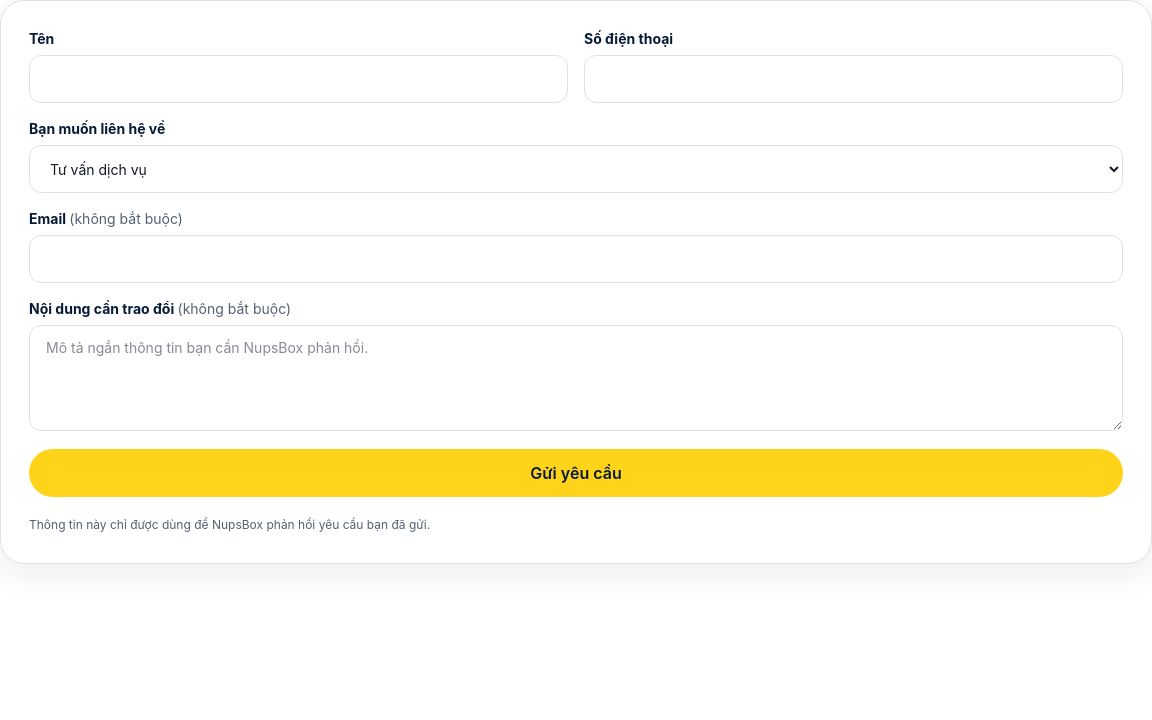
lead form conversion measurement › reveals storage questions only when storage advice is selected
The width and height of the screenshot is (1152, 720).
Expected: the field labelled "Bạn cần kho cho" is not shown
Select "Tư vấn lưu trữ" in the dropdown labelled "Bạn muốn liên hệ về" at (576, 169), box [29,145,1123,193]
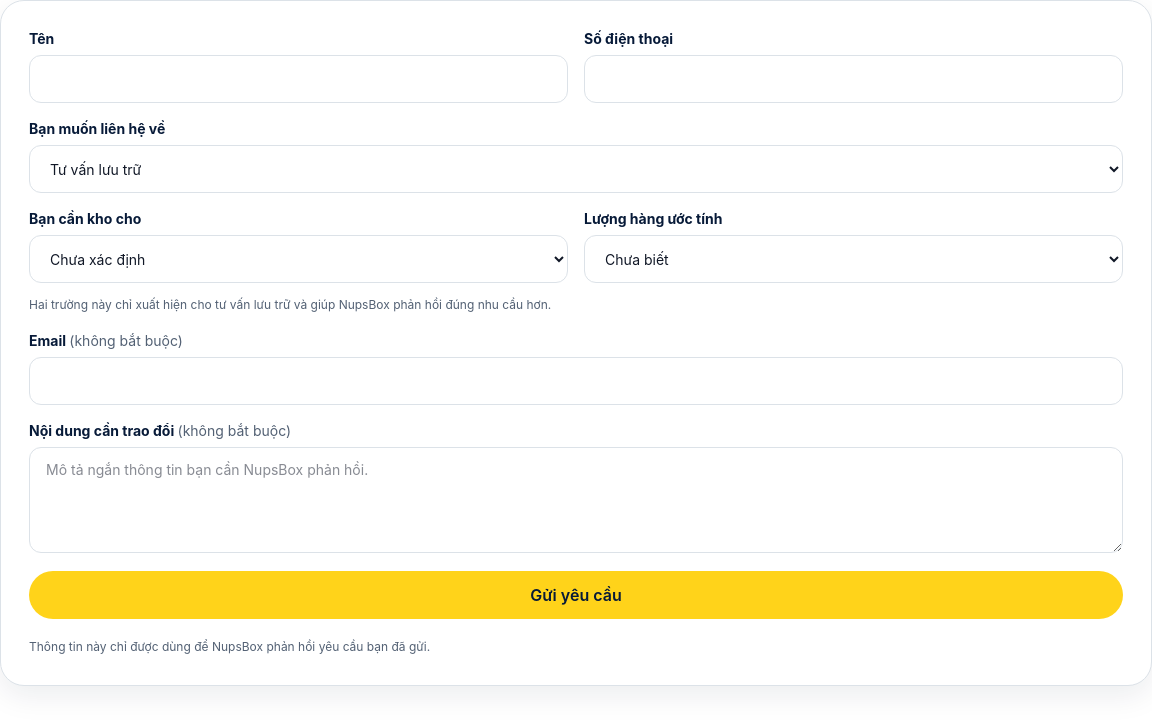
Result: the dropdown labelled "Bạn cần kho cho" is shown at [29,235,568,283]
Result: the dropdown labelled "Lượng hàng ước tính" is shown at [584,235,1123,283]
